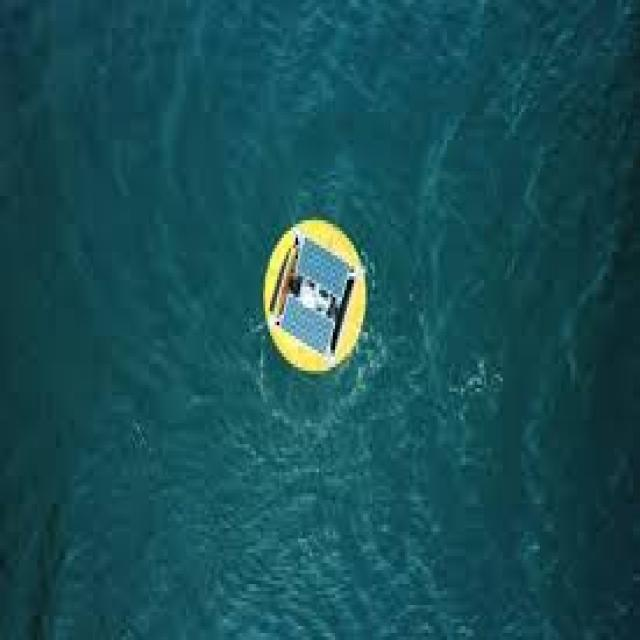marque: (255, 204, 378, 389)
